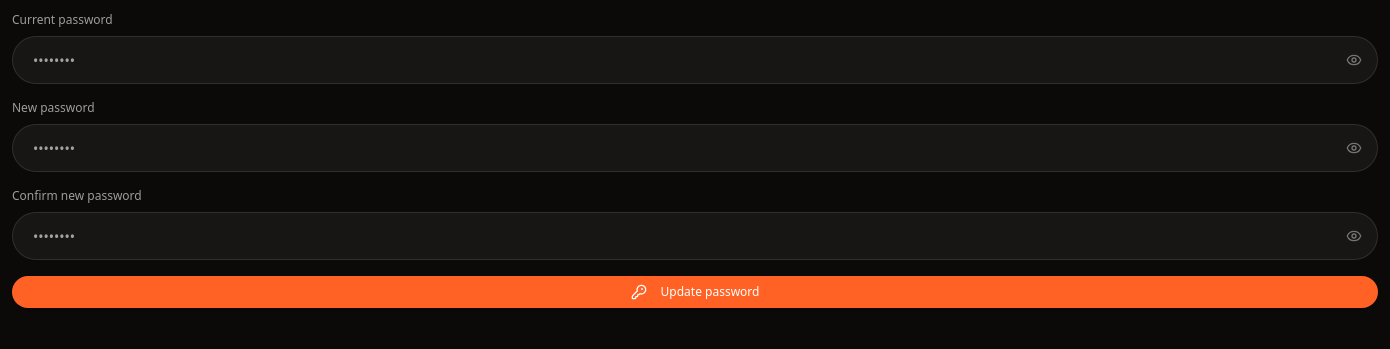
Test: PasswordChangeForm surfaces verbatim copy + isPending reset + field error className › renders the verbatim "Must be at least 15 characters" error for the new-password field
Type "OldPass1!" into the password field labelled "Current password".
click(695, 60); type("OldPass1!")  # box left=12, top=36, right=1378, bottom=84
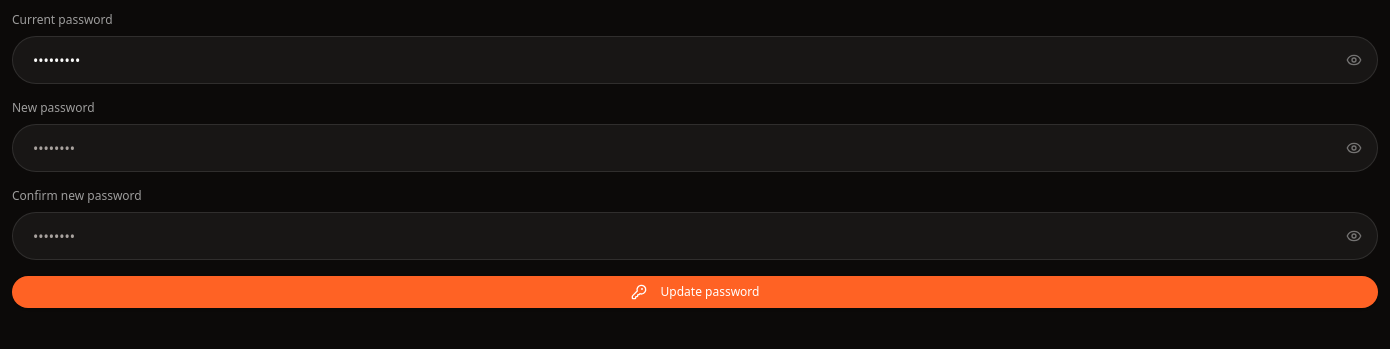
Type "short" into the password field labelled "New password".
click(695, 148); type("short")  # box left=12, top=124, right=1378, bottom=172
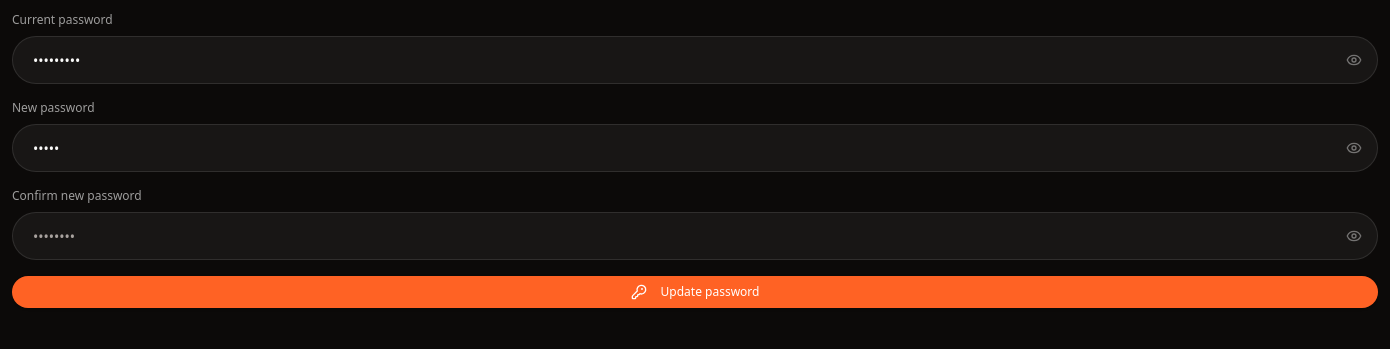
Type "short" into the password field labelled "Confirm new password".
click(695, 236); type("short")  # box left=12, top=212, right=1378, bottom=260
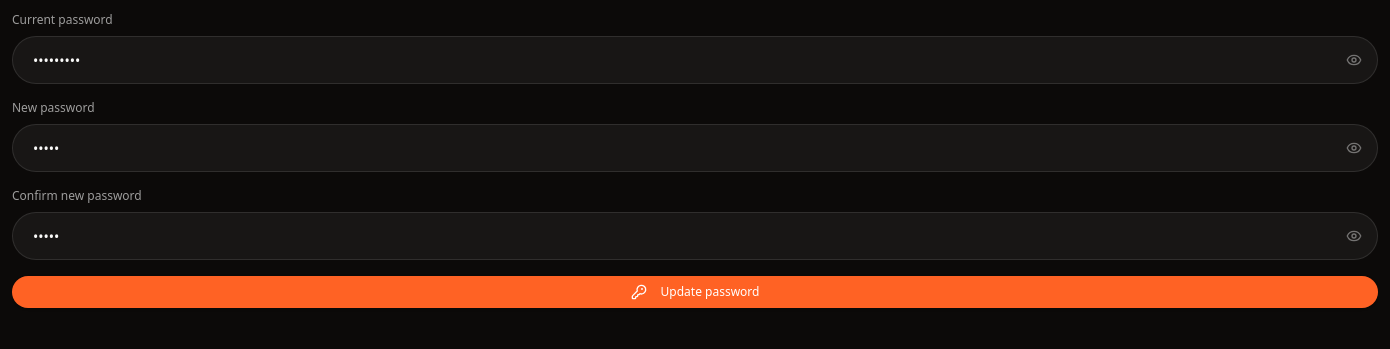
Click the button "Update password".
click(695, 292)  # box left=12, top=276, right=1378, bottom=308
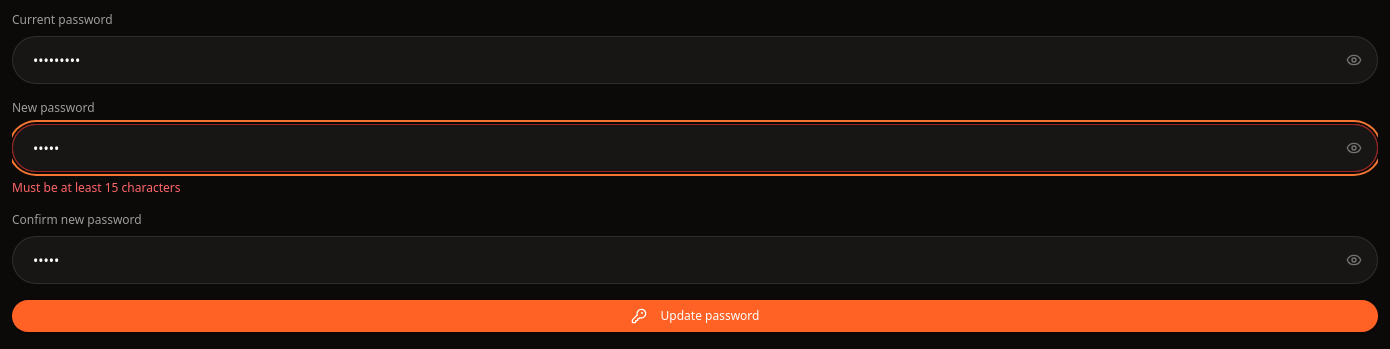
expect the text "Must be at least 15 characters" is shown: met, box left=12, top=179, right=180, bottom=196
